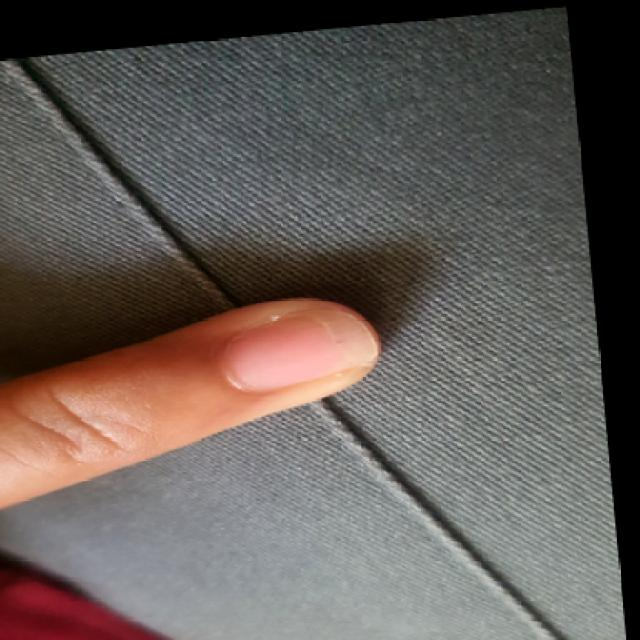Nail: (227, 310, 378, 392)
